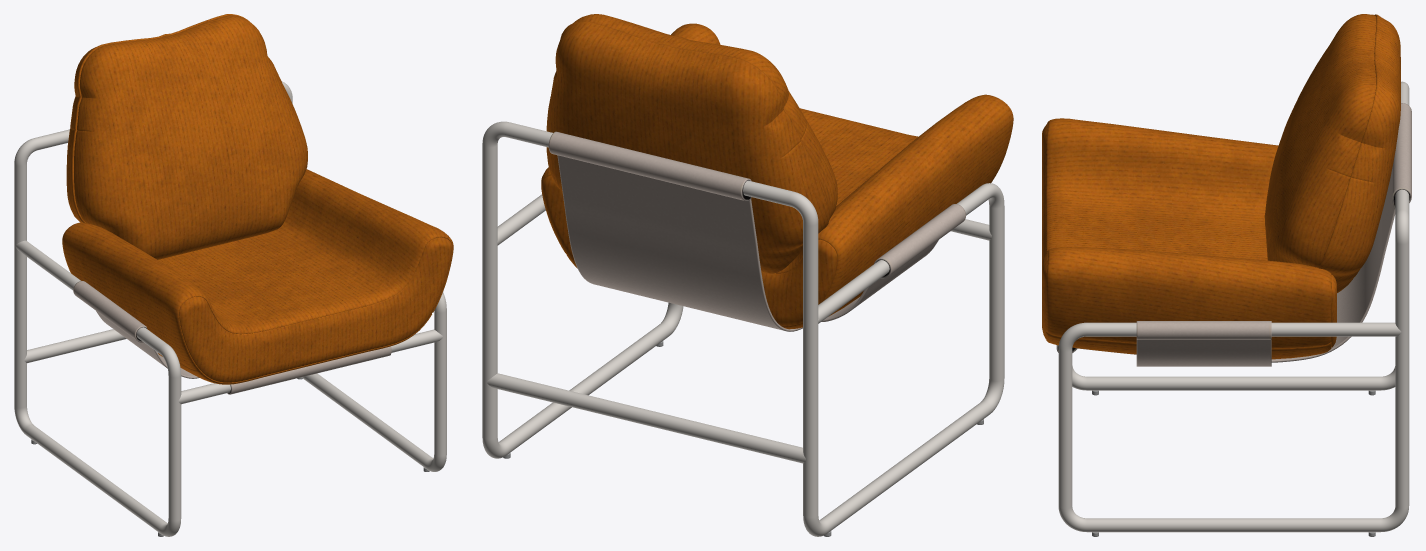
3 views of the same model, side by side, from view 1: azimuth 30°, elevation 25°; view 2: azimuth 150°, elevation 25°; view 3: azimuth 270°, elevation 25° (orthographic). The views are drawn at different scales.
Parts seen in each view (by area): view 1: chair47820; view 2: chair47820; view 3: chair47820.
Boxes of the visible parts, box(x1,y1,x2,y2) form: chair47820: box(14, 14, 453, 536); chair47820: box(482, 14, 1013, 536); chair47820: box(1042, 14, 1411, 536).
Size of the model in its own units: 0.64 by 0.83 by 0.67.
1 material, 1 textured.
